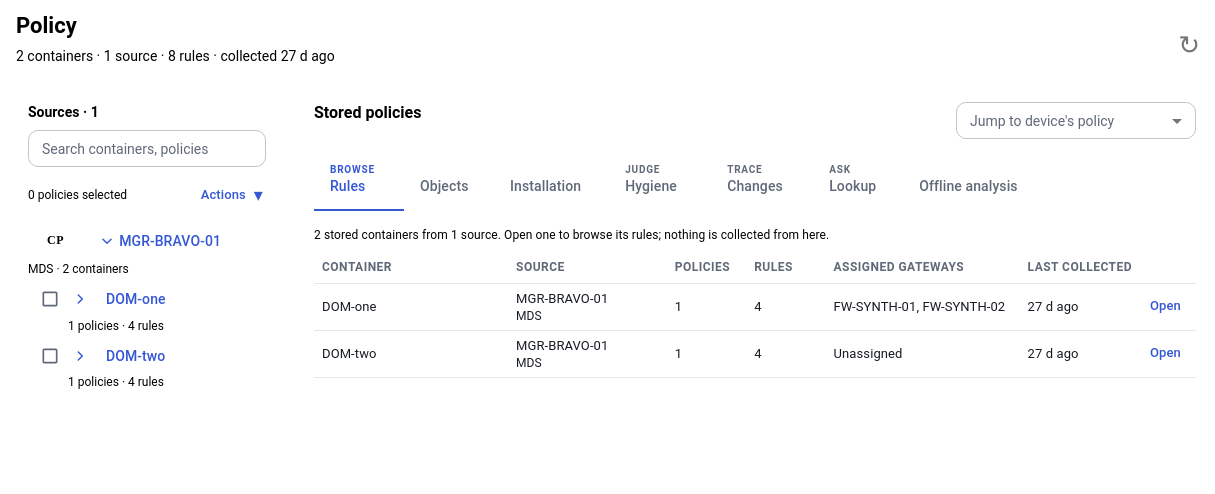
Test: prompts for a container and lists every stored container with its installation targets
Expected: the button "MGR-BRAVO-01" is shown, [91,223,229,259]
Step 1. Click the tab "Installation" → point(546, 183), box [494,155,597,211]
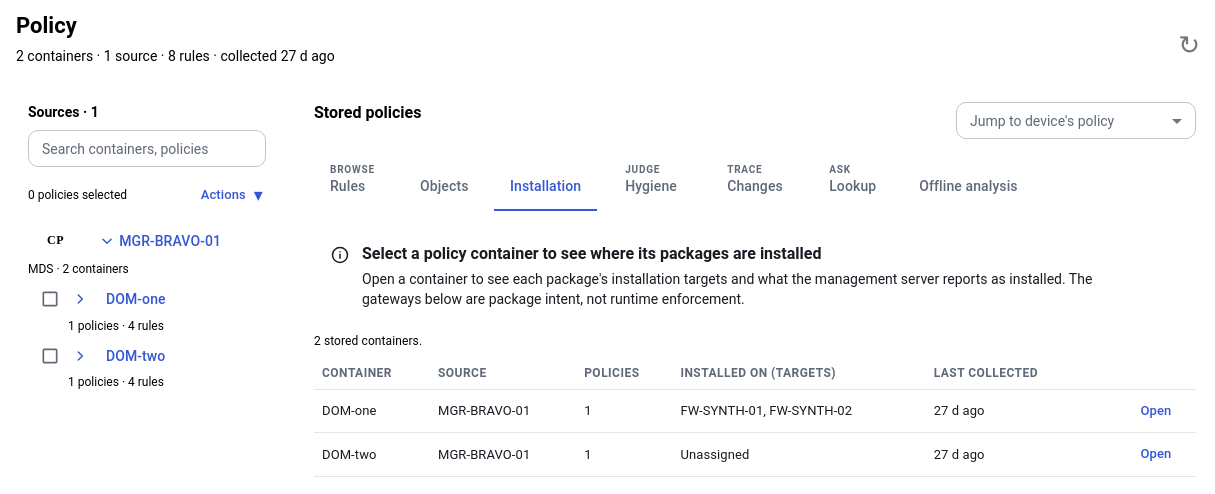
Expected: the text "Select a policy container to see where its packages are installed" is shown, [362,244,822,263]
Expected: the text "package intent, not runtime enforcement" is shown, [362,271,1092,307]
Expected: the column heading "Installed on (targets)" is shown, [672,357,926,389]
